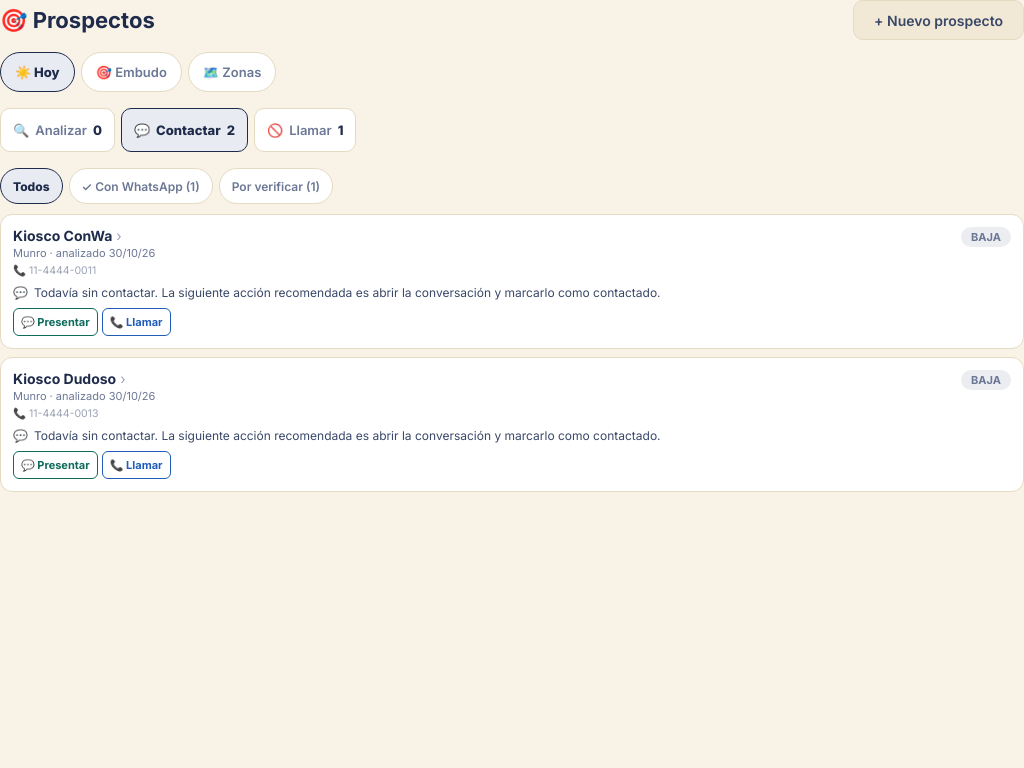
Prospectos — cola 🚫 Sin WhatsApp (gate G2: proyección, no etapa) › la Ficha del 🚫 cuenta la misma historia: chip 🚫 y 📞 como acción principal
This screenshot has width=1024, height=768.
Click the button "🚫 Llamar 1" at (305, 130), box [254, 108, 356, 152]
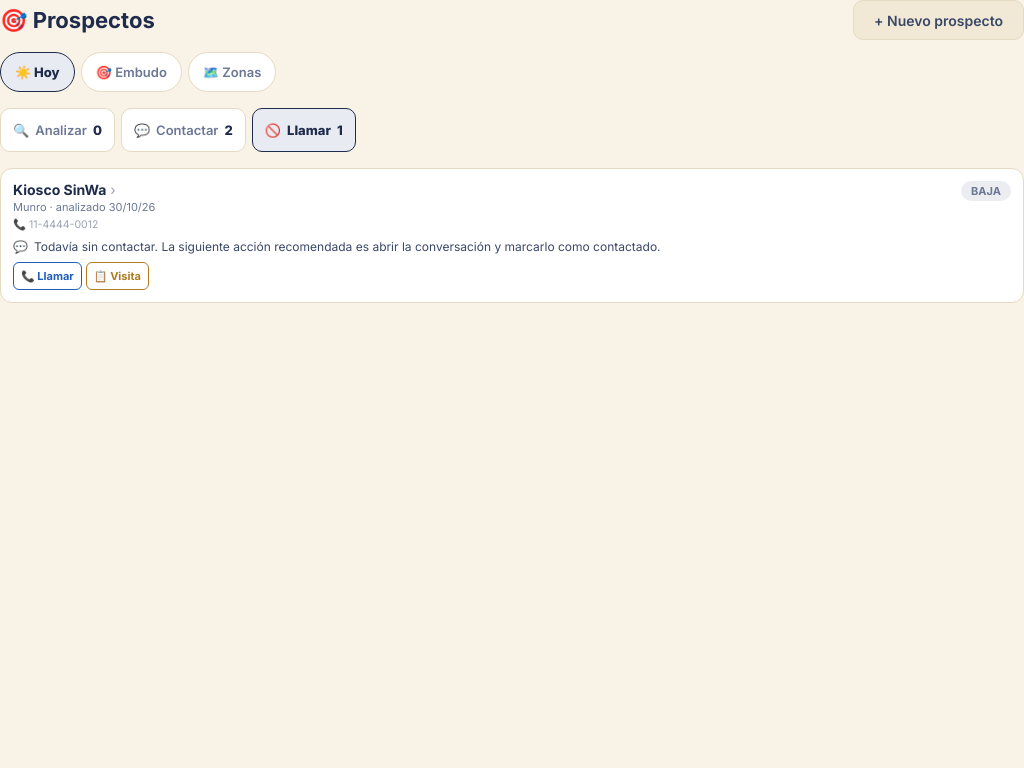
Click the text "Kiosco SinWa ›" at (64, 190), box [13, 181, 116, 198]
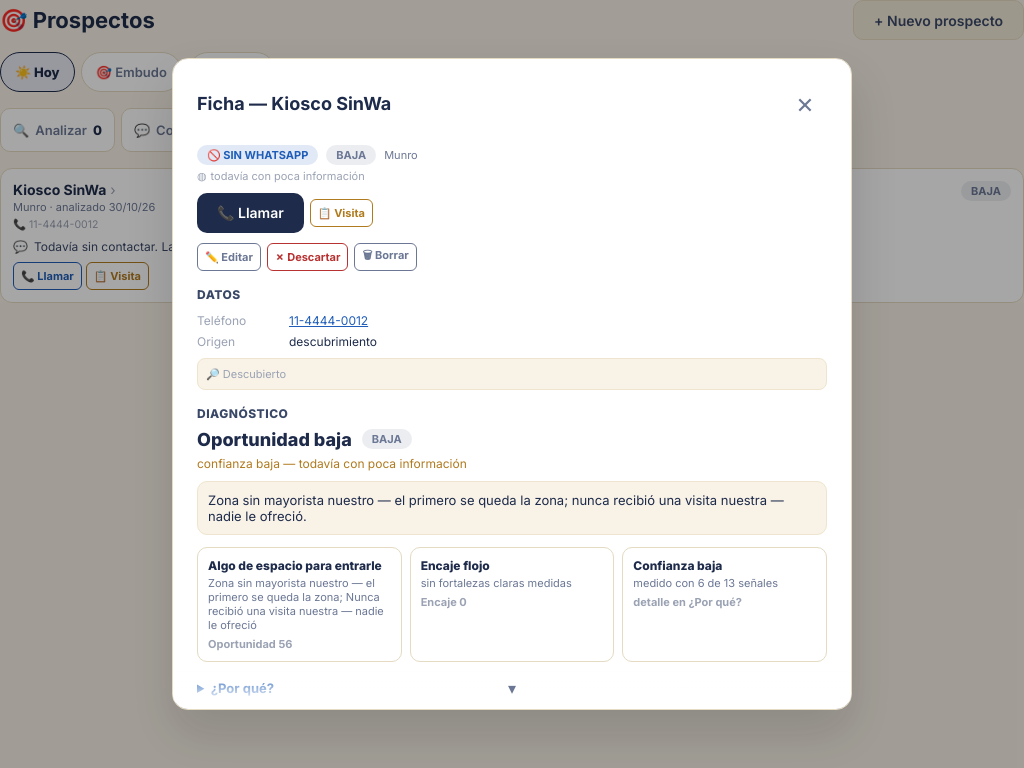
Expected: the button "📞 Llamar" below "📞 11-4444-0012" is shown, [13, 262, 82, 290]
Now the heading "Ficha — Kiosco SinWa" is shown, box [197, 93, 391, 114]
Now the text "🚫 Sin WhatsApp" is shown, box [197, 145, 318, 165]
